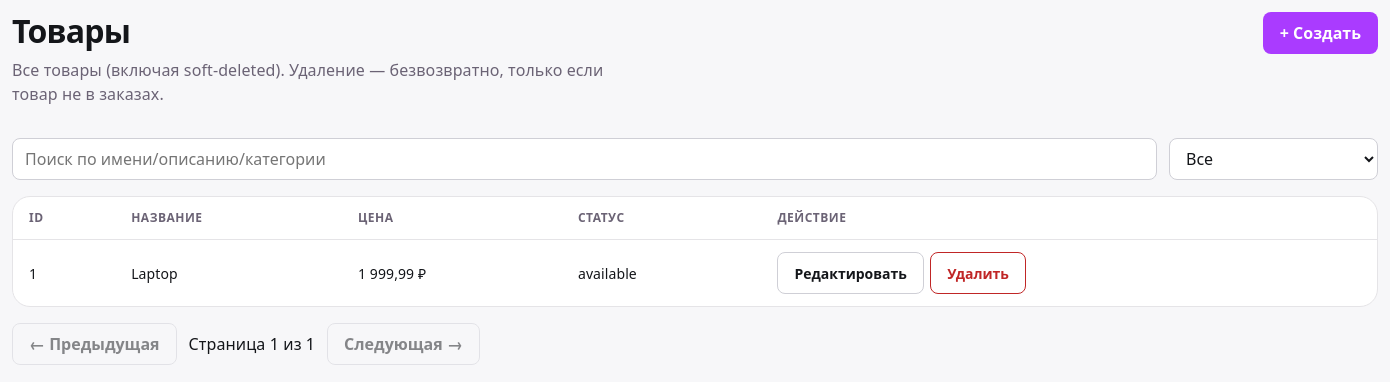
AdminProductsPage › редактирование сохраняет и обновляет строку
This screenshot has width=1390, height=382.
Expected: the text "Laptop" is shown, [115,240,342,306]
Click the button "Редактировать" at (851, 273), box [778,252,924,294]
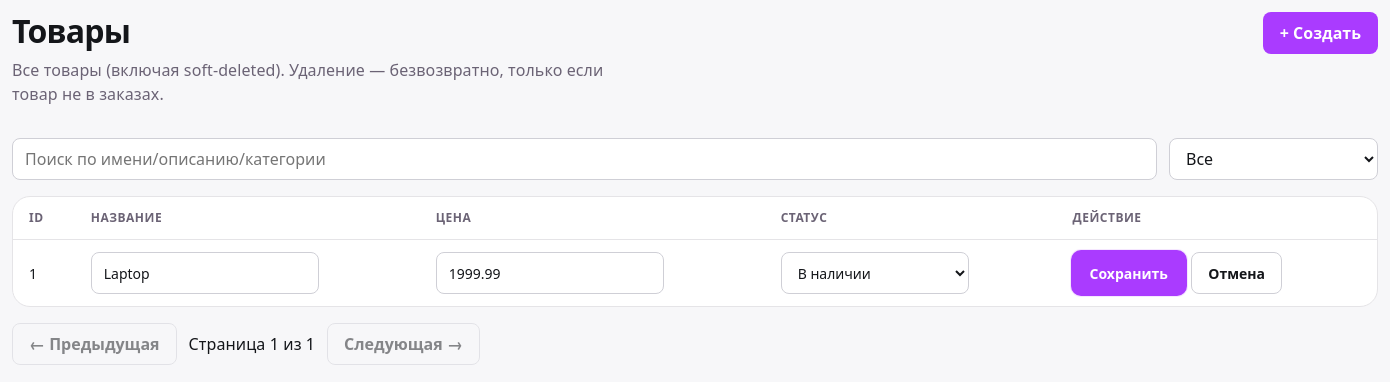
Replace the text in the 1st field showing "Laptop" with "New Name" at (205, 273), box [91,252,319,294]
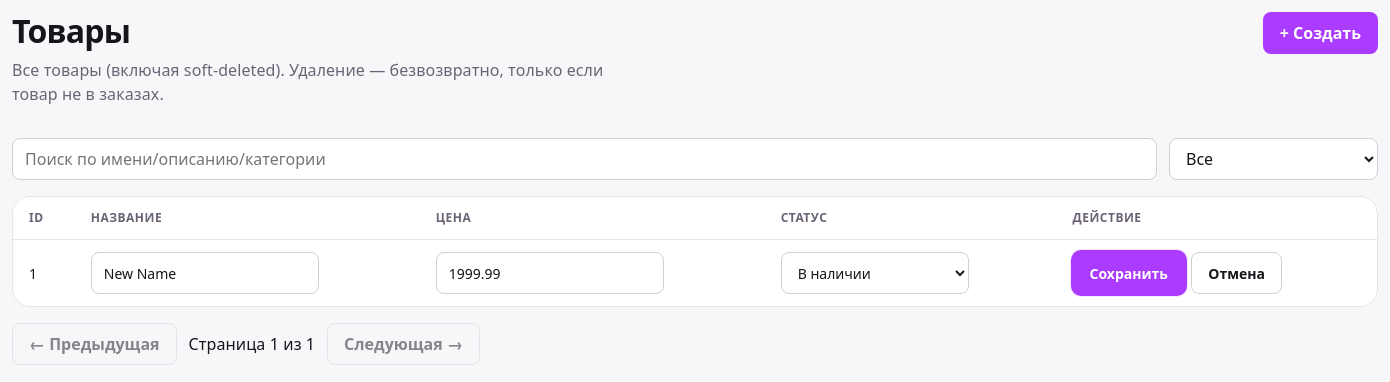
Replace the text in the 2nd field showing "1999.99" with "2000.00" at (550, 273), box [436,252,664,294]
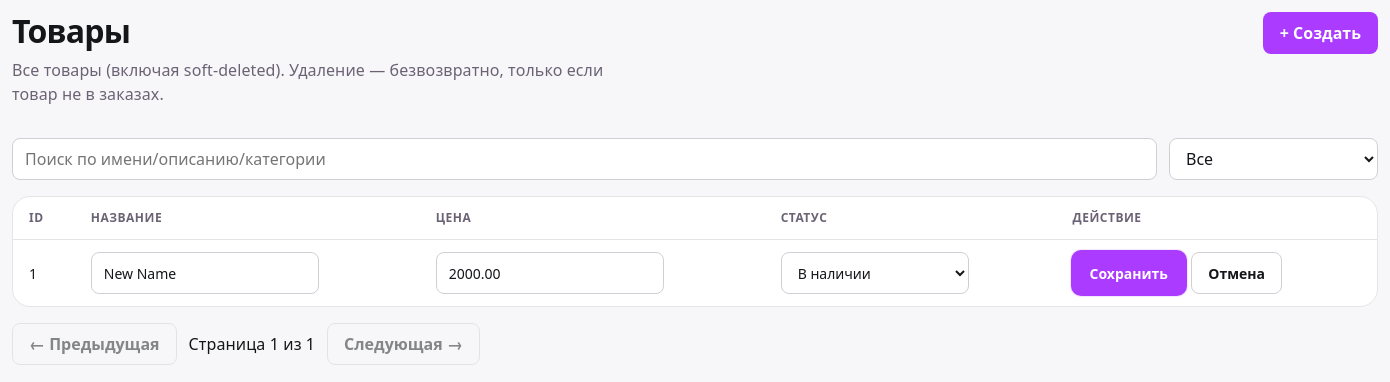
Select "Нет в наличии" in the dropdown below "Статус" at (875, 273), box [781,252,969,294]
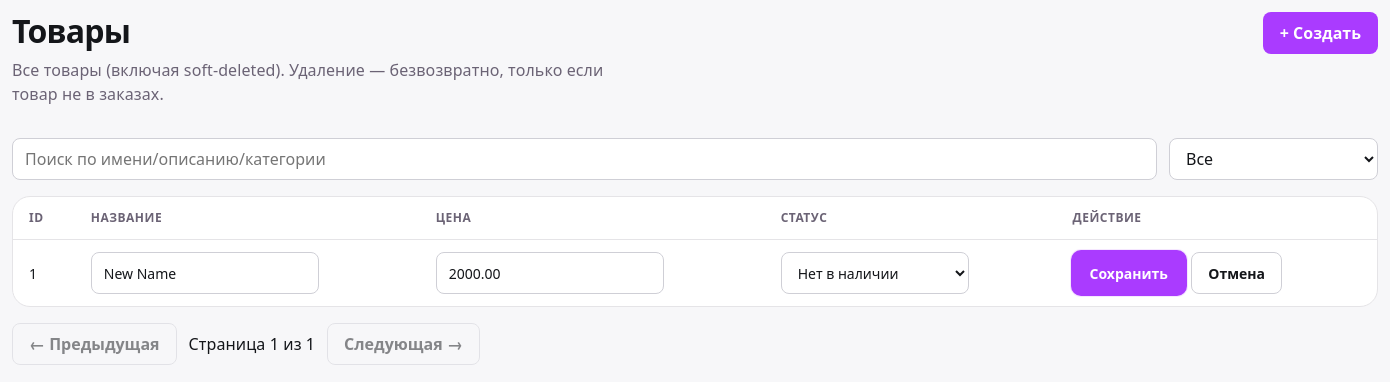
Click the button "Сохранить" at (1129, 273), box [1072,252,1185,294]
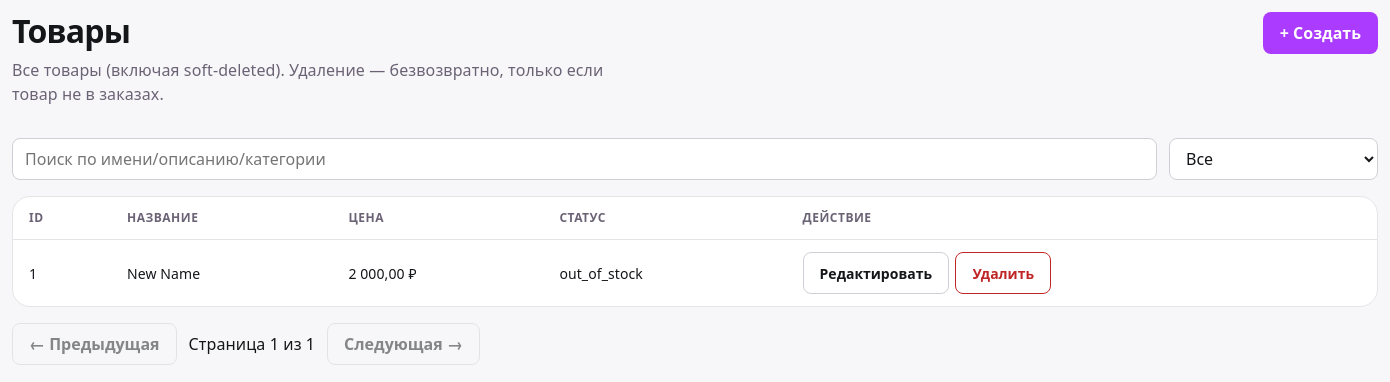
Expected: the text "New Name" is shown, [111,240,332,306]
Expected: the text "2 000,00 ₽" is shown, [332,240,543,306]
